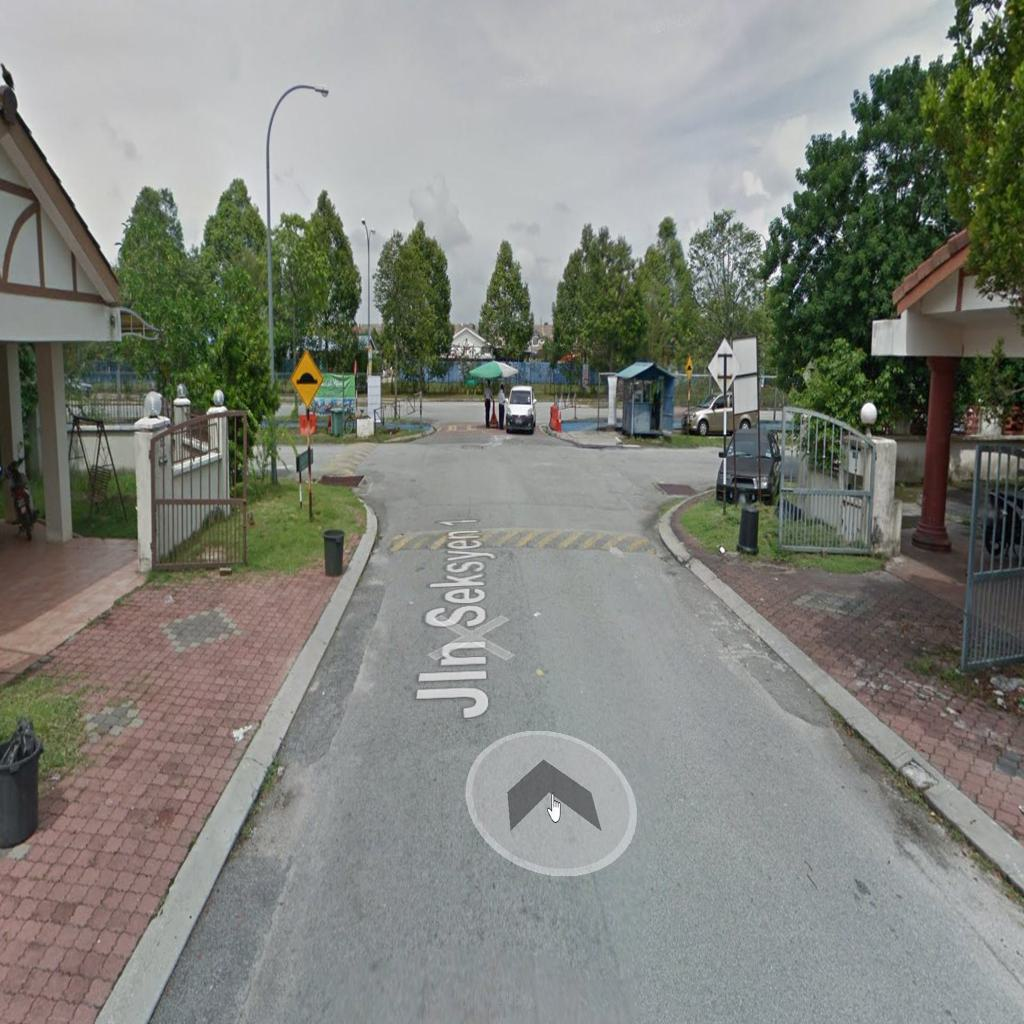Junction: (265, 412, 418, 533), (582, 422, 745, 527)
